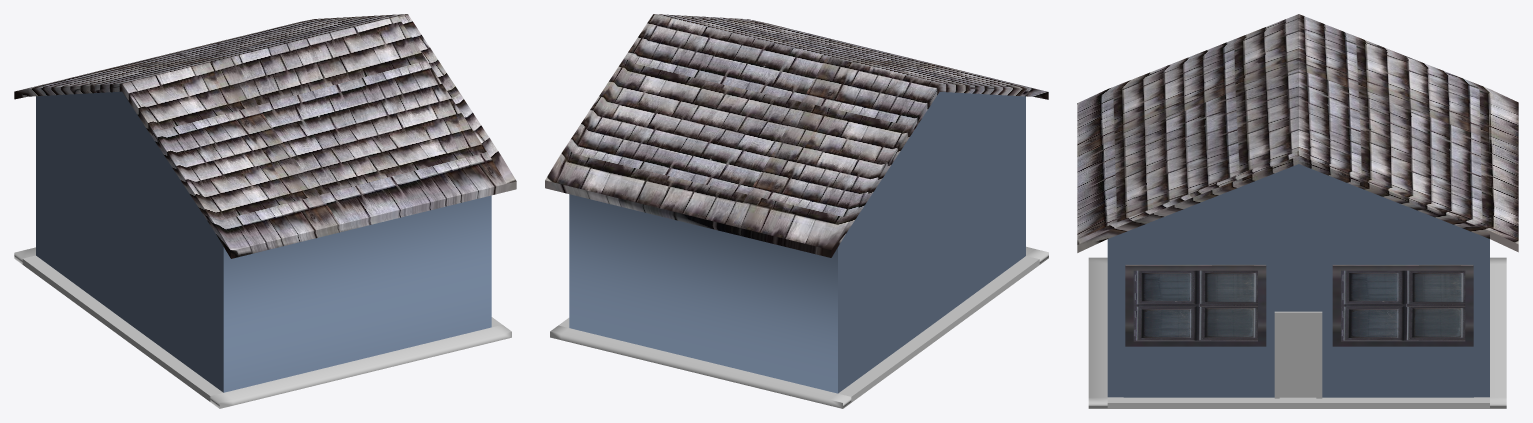
The model's file is House2.fbx.
The picture shows the model from 3 angles, left to right: view 1: azimuth 30°, elevation 25°; view 2: azimuth 150°, elevation 25°; view 3: azimuth 270°, elevation 25°; orthographic projection.
Visible parts, largest first — view 1: Cube; view 2: Cube; view 3: Cube, Cube.001, Cube.002.
Part boxes in pixels (x1=…): Cube: x1=14, y1=14, x2=516, y2=408; Cube: x1=545, y1=14, x2=1048, y2=408; Cube: x1=1077, y1=14, x2=1518, y2=408; Cube.001: x1=1125, y1=264, x2=1266, y2=346; Cube.002: x1=1332, y1=264, x2=1473, y2=346.
Bounding box in the file's own units: 773 × 628 × 994.
